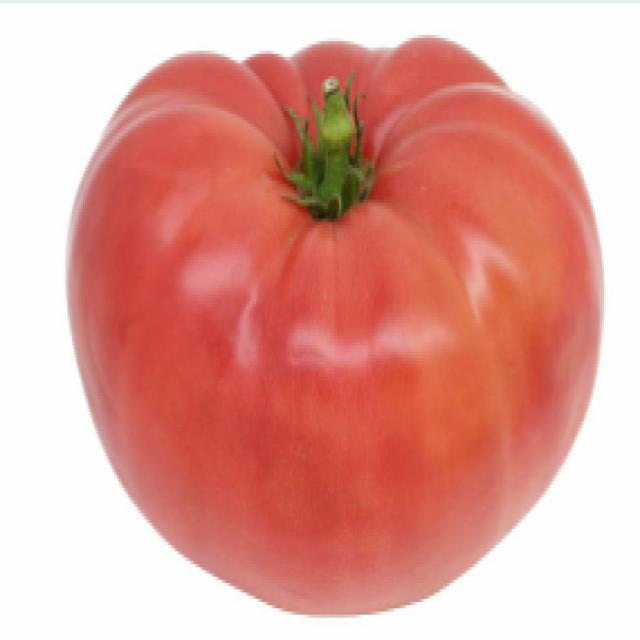Tomato: (66, 29, 601, 628)
